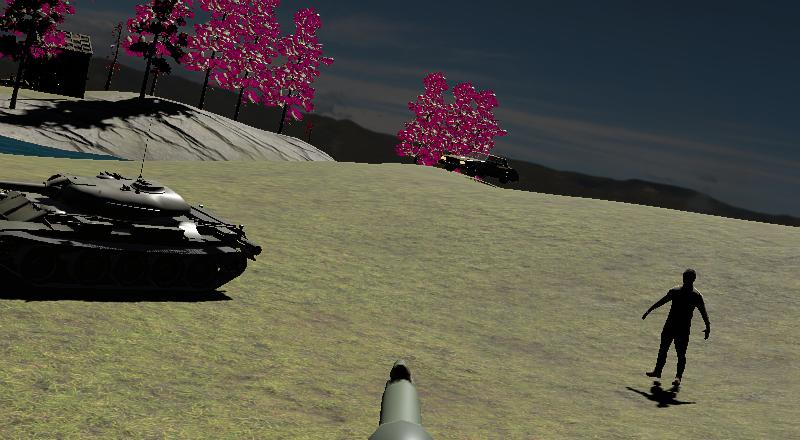Human: (636, 265, 715, 401)
Tank: (0, 166, 266, 300), (437, 148, 521, 189)
